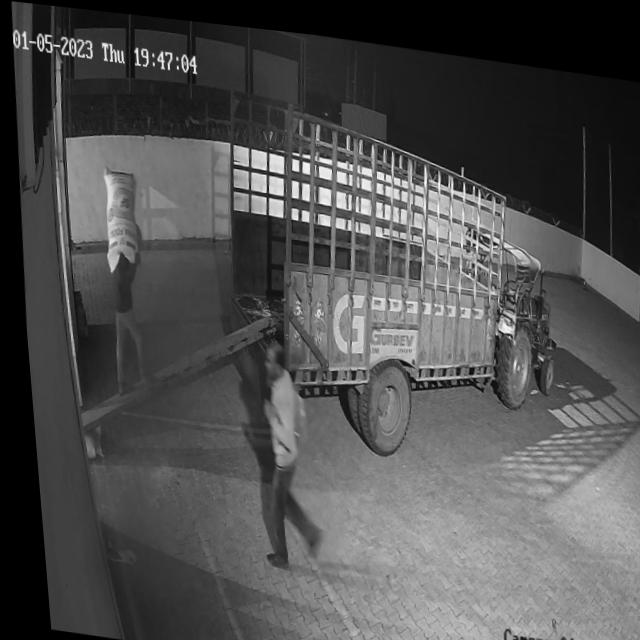sack: (94, 162, 140, 271)
